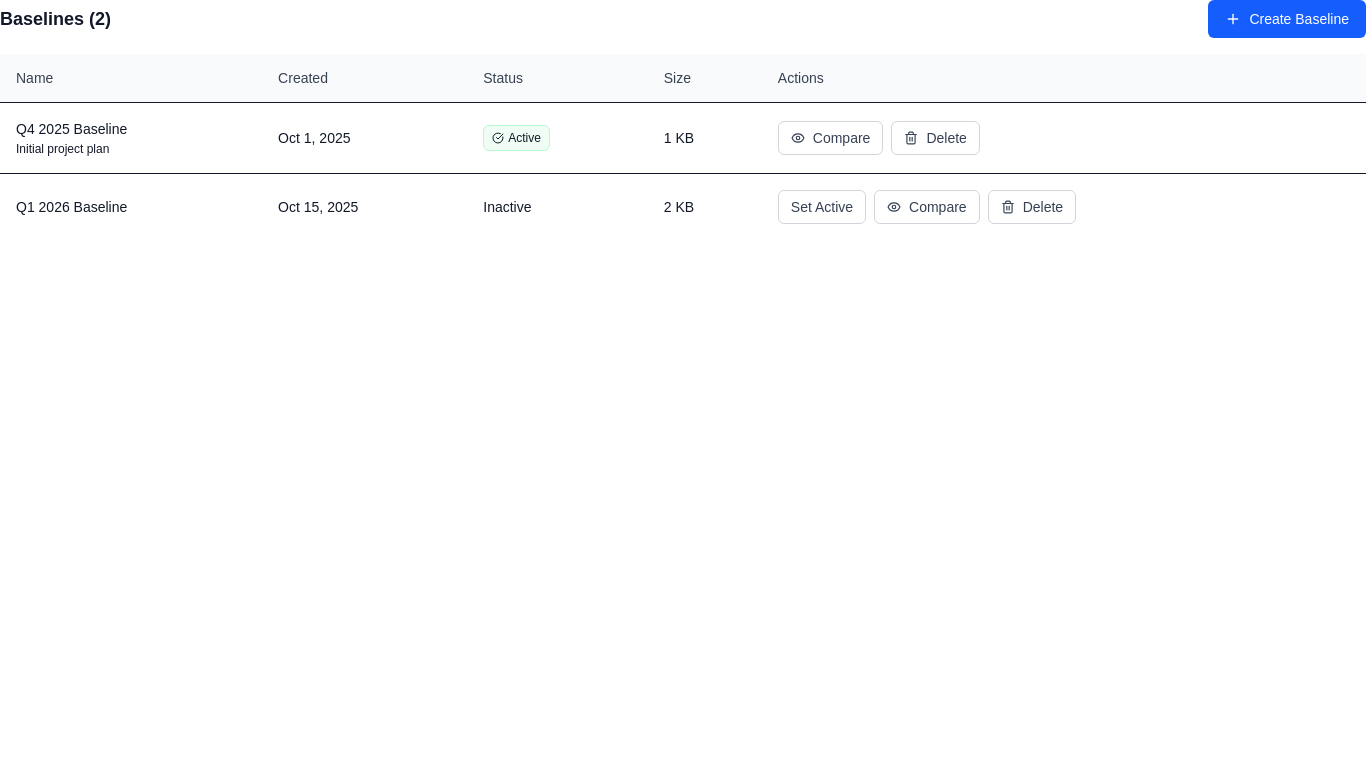
Test: BaselineList › Delete Baseline › cancels delete when user clicks cancel
Expected: the text "Q4 2025 Baseline" is shown, [16,120,127,136]
Click the button "Delete" in the row of "Q4 2025 Baseline": (936, 138) [891,120,980,154]
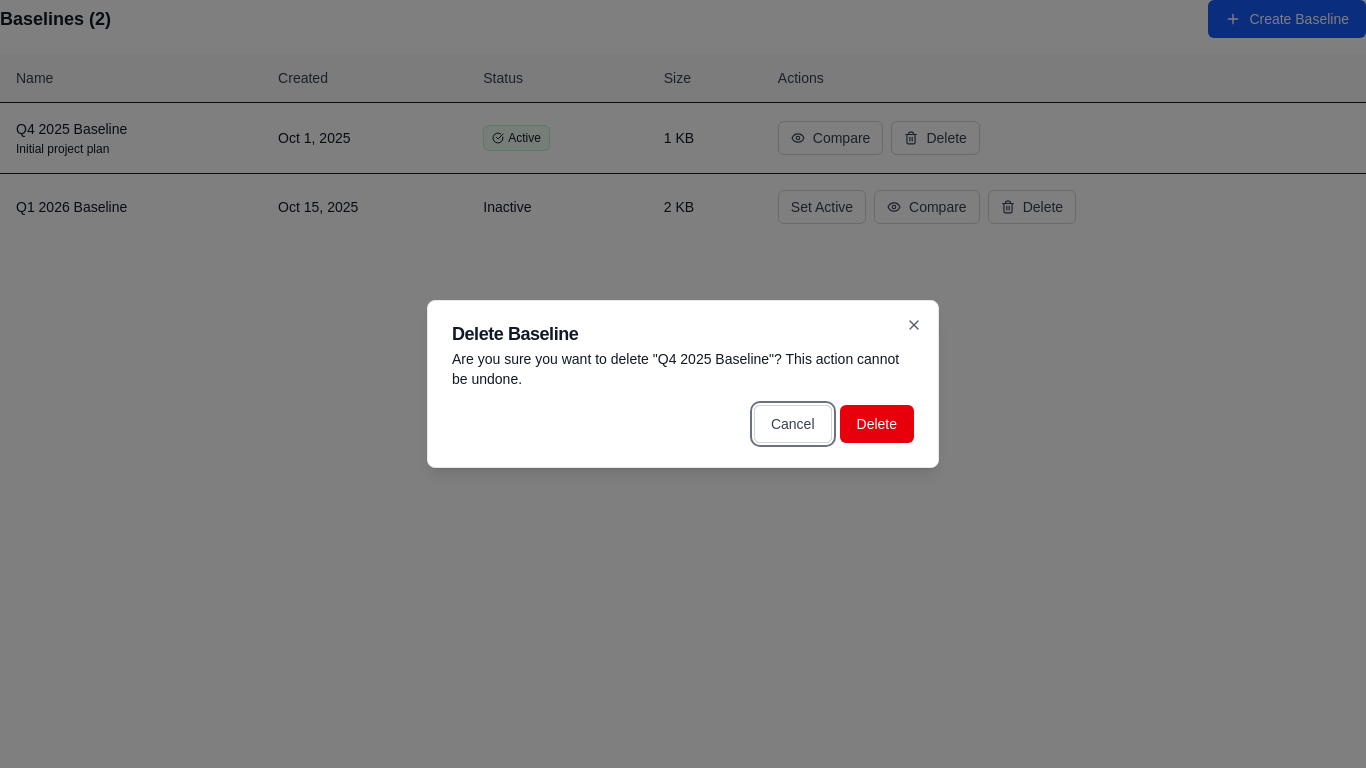
Result: the dialog is shown at [427,300,939,468]
Click the button "Cancel": (793, 424) [754,405,832,443]
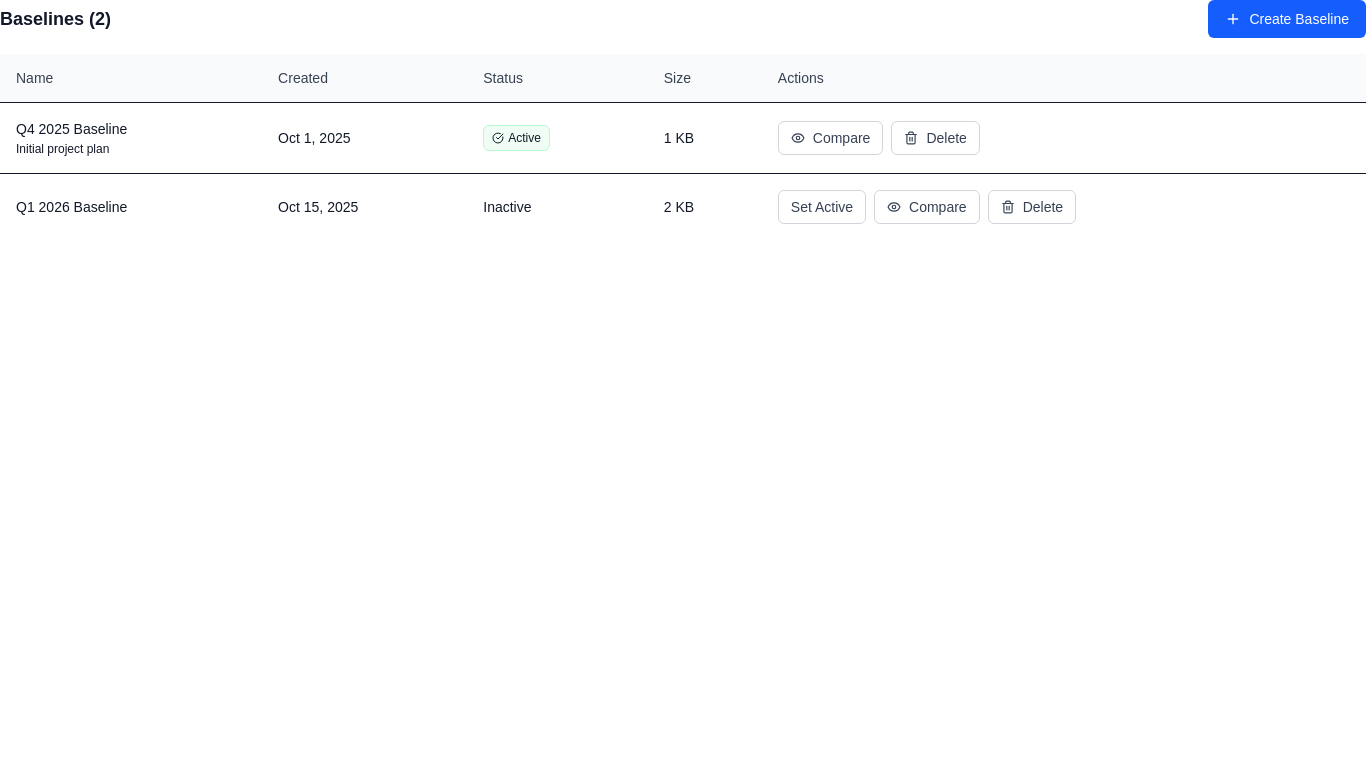
Result: the dialog is gone
